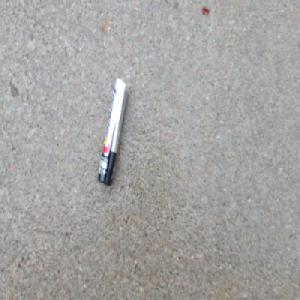Battery: (97, 77, 128, 187)
